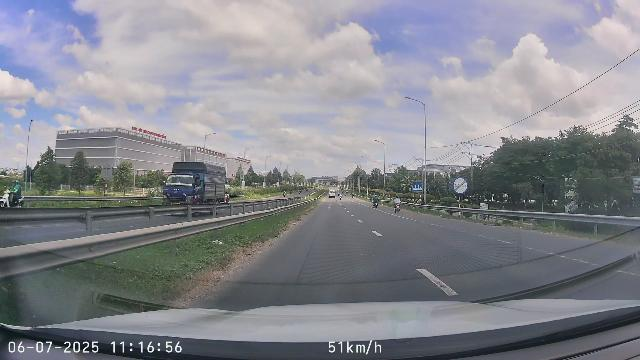133-het-cam-vuot: (452, 176, 468, 194)
420-bat-dau-khu-dong-dan-cu: (412, 183, 423, 192)
